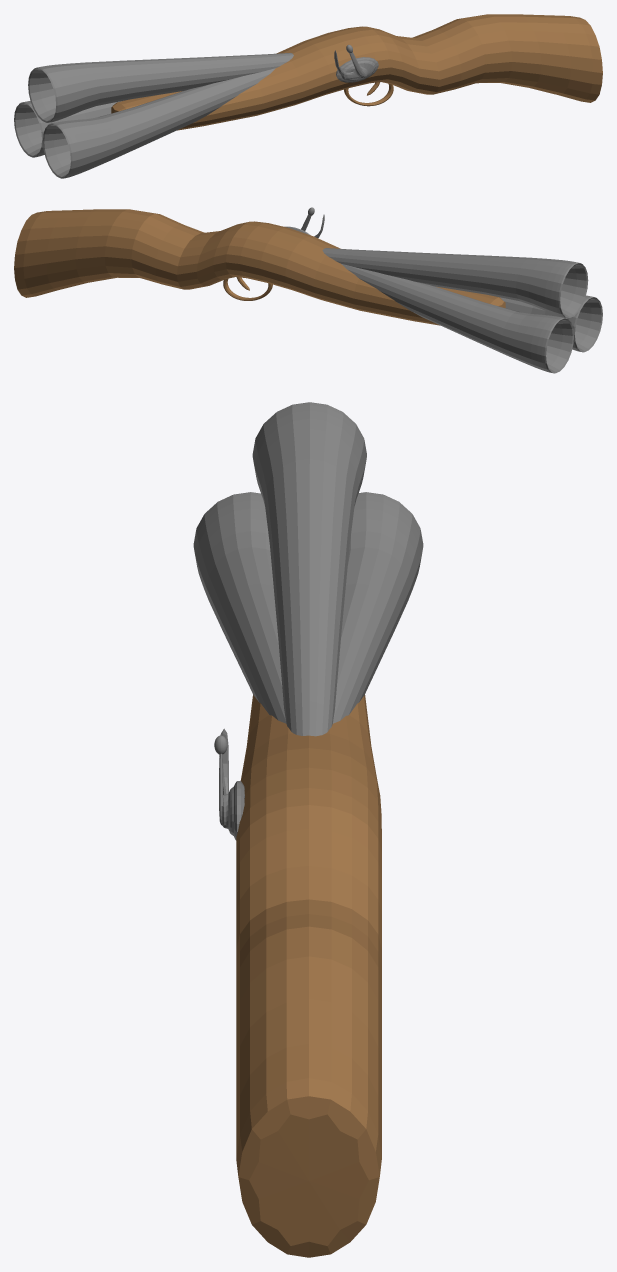
Rendered from 3shotgun.fbx.
3 views of the same model, one above another, from view 1: azimuth 30°, elevation 25°; view 2: azimuth 150°, elevation 25°; view 3: azimuth 270°, elevation 25° (orthographic). The views are drawn at different scales.
Parts seen in each view (by area): view 1: Circle.002; view 2: Circle.002; view 3: Circle.002.
Part boxes in pixels (left/top/right/bottom): Circle.002: left=14, top=14, right=602, bottom=178; Circle.002: left=14, top=207, right=602, bottom=373; Circle.002: left=193, top=402, right=423, bottom=1257.
Size of the model in its own units: 3409 by 977 by 622.
